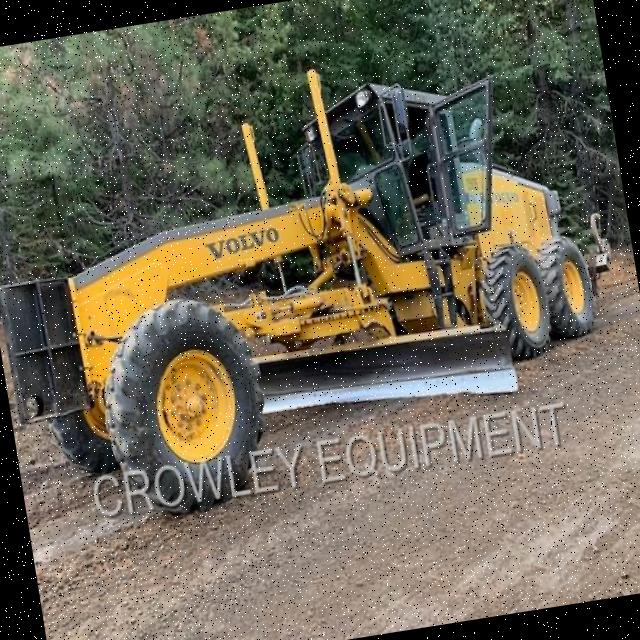Grader: (0, 24, 627, 535)
